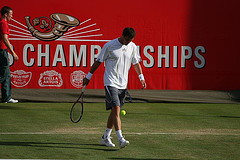tennis ball: (121, 110, 127, 116)
